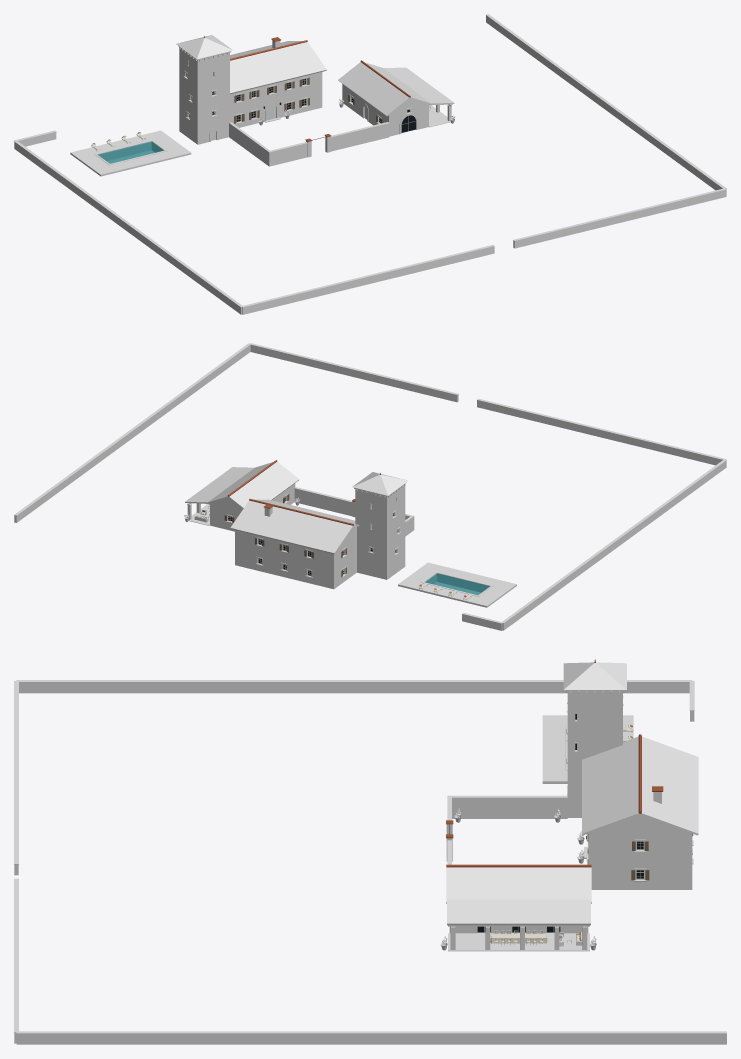
The model's file is venue.glb.
3 renders of one model, top to bottom at view 1: azimuth 30°, elevation 25°; view 2: azimuth 150°, elevation 25°; view 3: azimuth 270°, elevation 25°, orthographic. The views are drawn at different scales.
Visible parts, largest first — view 1: Stone_misc, Limestone_trim, Tower, ROOF_MASUP_tiles, Pool_deck, ROOF_pahissa, Pahissa_walls, Mas_walls_ground, MASUP_walls, ROOF_porch, ROOF_tower, Pool_basin (+1 smaller); view 2: Stone_misc, Tower, ROOF_MASUP_tiles, Limestone_trim, Mas_walls_ground, Pool_deck, MASUP_walls, ROOF_pahissa, Pahissa_walls, ROOF_porch, ROOF_tower, Pool_basin (+1 smaller); view 3: Stone_misc, ROOF_MASUP_tiles, Limestone_trim, ROOF_pahissa, Tower, ROOF_porch, MASUP_walls, Mas_walls_ground, Pool_deck, Paving, ROOF_tower, Pahissa_walls (+1 smaller).
Part boxes in pixels (box(x1,y1,x2,y2)): Stone_misc: box(14, 16, 726, 314); Limestone_trim: box(14, 14, 726, 307); Tower: box(179, 48, 229, 144); ROOF_MASUP_tiles: box(230, 41, 326, 94); Pool_deck: box(70, 130, 191, 176); ROOF_pahissa: box(338, 62, 433, 116); Pahissa_walls: box(342, 84, 428, 136); Mas_walls_ground: box(230, 88, 322, 127); MASUP_walls: box(230, 72, 322, 109); ROOF_porch: box(383, 67, 454, 104); ROOF_tower: box(176, 35, 233, 59); Pool_basin: box(97, 141, 164, 163); Stone_misc: box(14, 345, 726, 630); Tower: box(355, 485, 405, 579); ROOF_MASUP_tiles: box(230, 499, 359, 553); Limestone_trim: box(14, 343, 726, 623); Mas_walls_ground: box(235, 545, 356, 589); Pool_deck: box(398, 562, 516, 607); MASUP_walls: box(235, 526, 356, 569); ROOF_pahissa: box(205, 461, 299, 508); Pahissa_walls: box(210, 483, 295, 531); ROOF_porch: box(185, 467, 254, 503); ROOF_tower: box(352, 472, 408, 495); Pool_basin: box(424, 573, 490, 594); Stone_misc: box(14, 682, 726, 1044); ROOF_MASUP_tiles: box(582, 736, 698, 835); Limestone_trim: box(14, 680, 726, 1034); ROOF_pahissa: box(446, 867, 591, 903); Tower: box(567, 691, 622, 817); ROOF_porch: box(447, 899, 590, 925); MASUP_walls: box(588, 814, 692, 860); Mas_walls_ground: box(588, 860, 692, 889); Pool_deck: box(542, 715, 633, 783); Paving: box(448, 933, 589, 951); ROOF_tower: box(563, 662, 626, 689); Pahissa_walls: box(449, 926, 588, 933).
Size of the model in its own units: 96.58 by 20.15 by 82.3.
